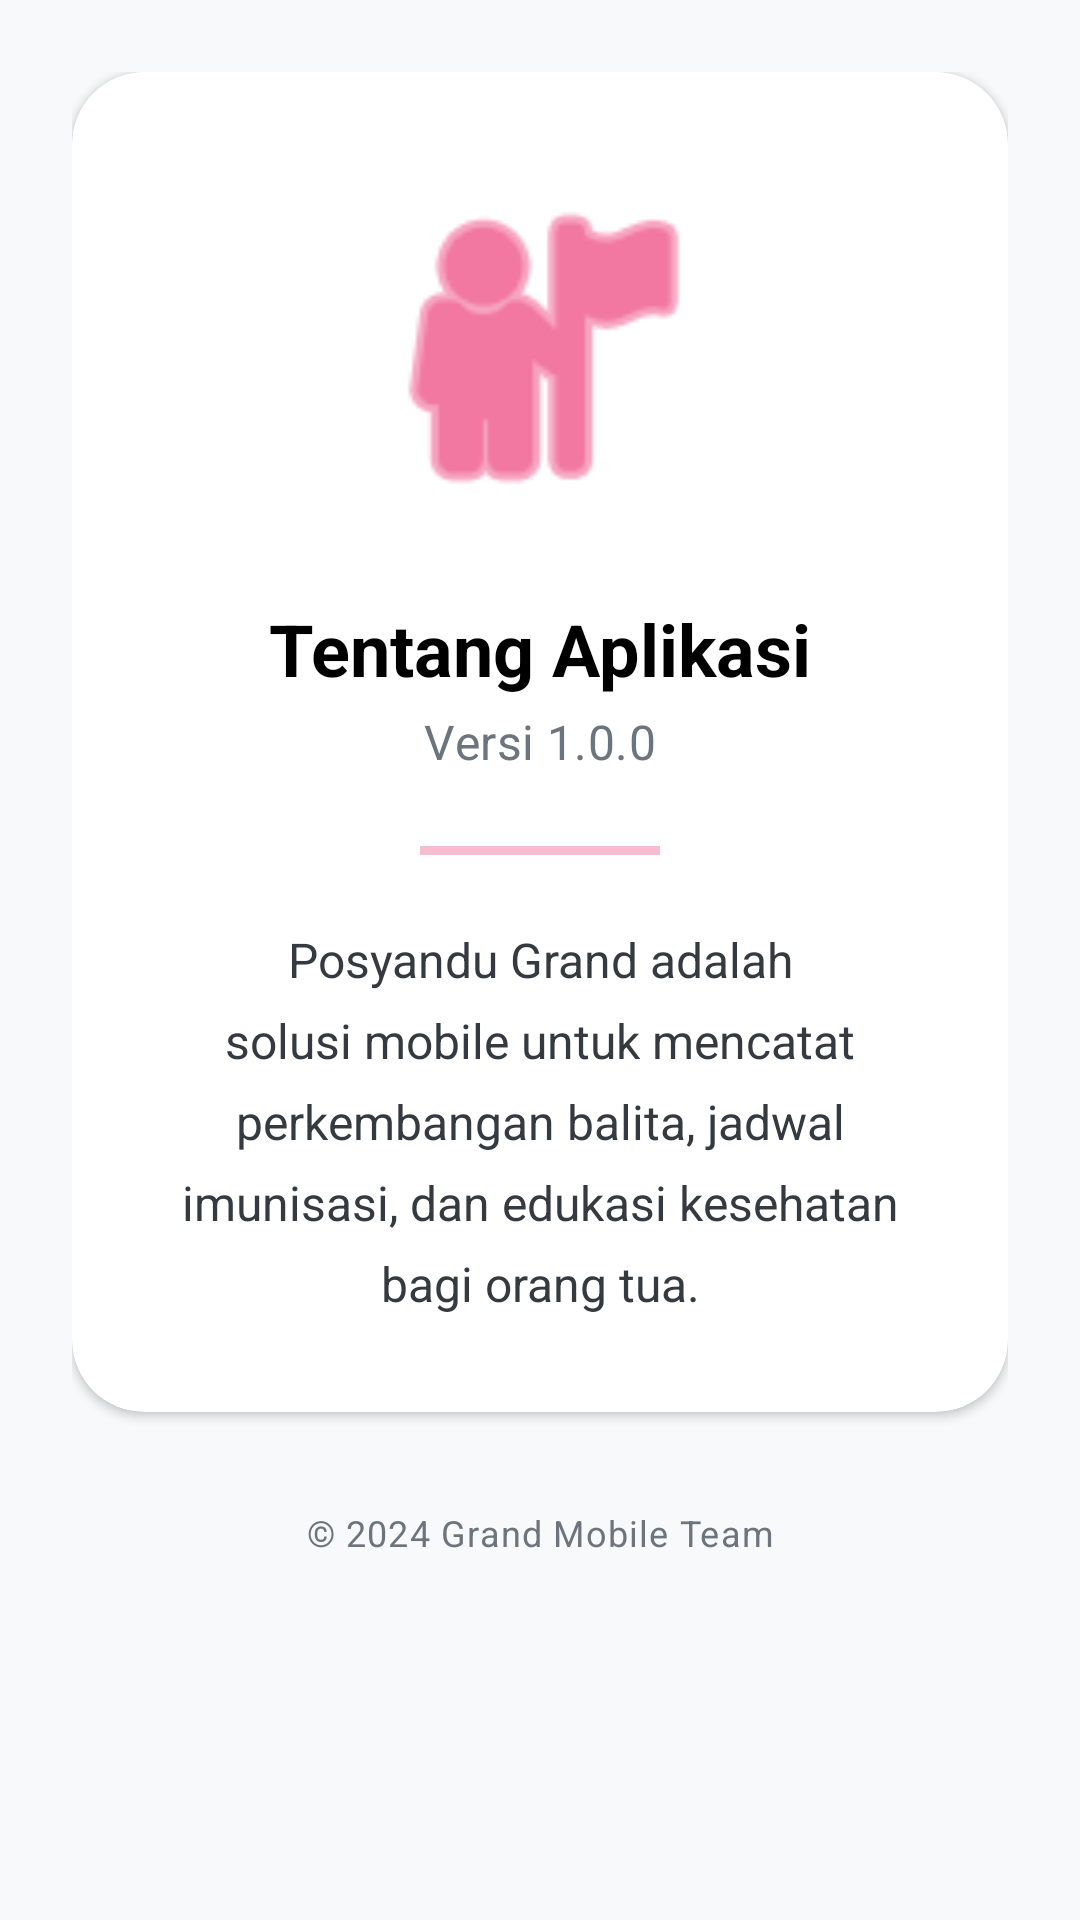

Point at icon controls on the screen. Image size 1080×1920, points as point (x, y).
myplaces: point (543, 348)
